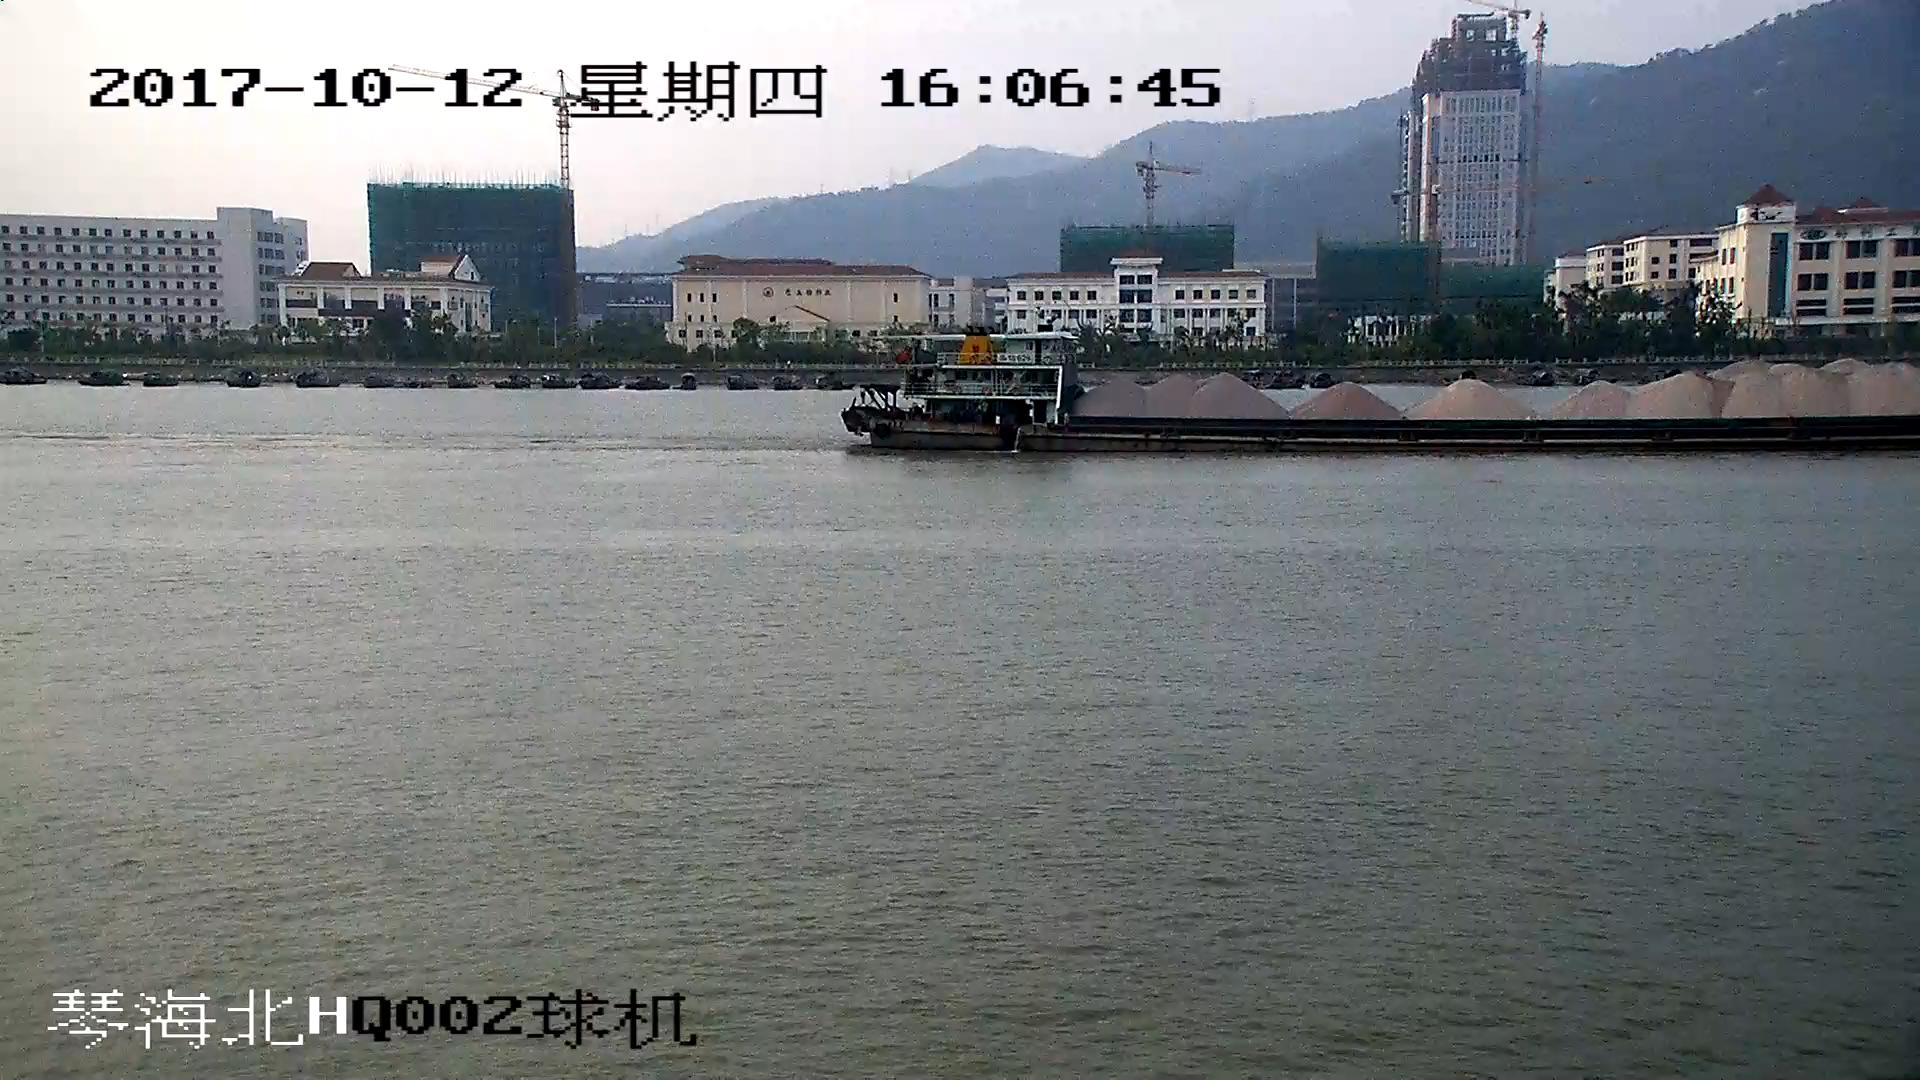ore carrier: (843, 329, 1920, 454)
